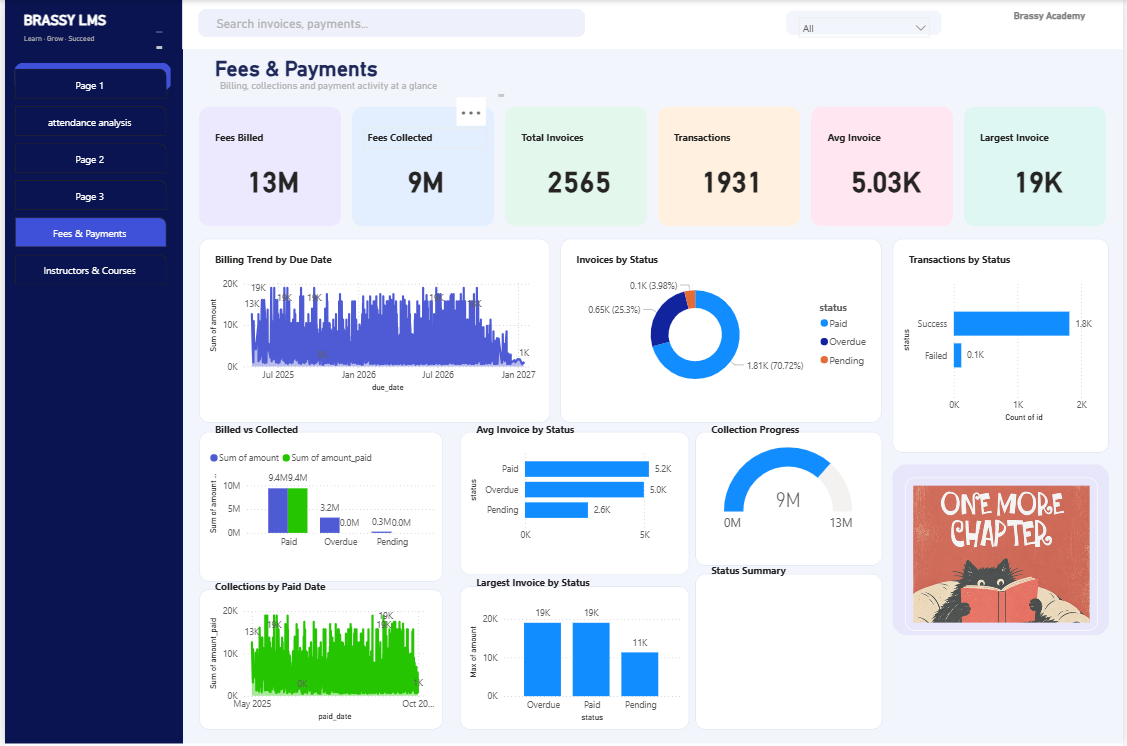

This screenshot's page, from the dashboard's own definition file:
{"tool":"powerbi","page":{"name":"Fees & Payments","canvas":[1280,720],"ordinal":4},"visuals":[{"type":"slicer","fields":{"Values":["brassy_lms payment_invoices.status"]},"box":[0,0,221,106],"z":1000},{"type":"card","title":"Fees Billed","fields":{"Values":["Sum(brassy_lms payment_invoices.amount)"]},"box":[244,0,260,106],"z":2000},{"type":"card","title":"Fees Collected","fields":{"Values":["Sum(brassy_lms payment_invoices.amount_paid)"]},"box":[525,0,258,106],"z":3000},{"type":"card","title":"Invoices","fields":{"Values":["CountNonNull(brassy_lms payment_invoices.id)"]},"box":[803,0,238,106],"z":4000},{"type":"card","title":"Transactions","fields":{"Values":["CountNonNull(brassy_lms transactions.id)"]},"box":[1057,0,223,106],"z":5000},{"type":"donutChart","title":"Invoices by status","fields":{"Category":["brassy_lms payment_invoices.status"],"Y":["CountNonNull(brassy_lms payment_invoices.id)"]},"box":[0,120,420,300],"z":6000},{"type":"clusteredBarChart","title":"Billed vs collected by invoice status","fields":{"Category":["brassy_lms payment_invoices.status"],"Y":["Sum(brassy_lms payment_invoices.amount)","Sum(brassy_lms payment_invoices.amount_paid)"]},"box":[440,120,840,300],"z":7000},{"type":"clusteredColumnChart","title":"Transactions by status","fields":{"Category":["brassy_lms transactions.status"],"Y":["CountNonNull(brassy_lms transactions.id)"]},"box":[0,432,640,288],"z":8000},{"type":"clusteredBarChart","title":"Invoice count by status","fields":{"Category":["brassy_lms payment_invoices.status"],"Y":["CountNonNull(brassy_lms payment_invoices.id)"]},"box":[640,432,640,288],"z":9000}]}

Visuals, with their boxes on the page's 1280x720 design canvas (x1, y1, x2, y2). These are canvas units, not pixel positions in the 1127x746 screenshot, which may show the page scaled, cropped or inside an application window:
slicer - brassy_lms payment_invoices.status: x1=0, y1=0, x2=221, y2=106
"Fees Billed" card: x1=244, y1=0, x2=504, y2=106
"Fees Collected" card: x1=525, y1=0, x2=783, y2=106
"Invoices" card: x1=803, y1=0, x2=1041, y2=106
"Transactions" card: x1=1057, y1=0, x2=1280, y2=106
"Invoices by status" donutChart: x1=0, y1=120, x2=420, y2=420
"Billed vs collected by invoice status" clusteredBarChart: x1=440, y1=120, x2=1280, y2=420
"Transactions by status" clusteredColumnChart: x1=0, y1=432, x2=640, y2=720
"Invoice count by status" clusteredBarChart: x1=640, y1=432, x2=1280, y2=720
